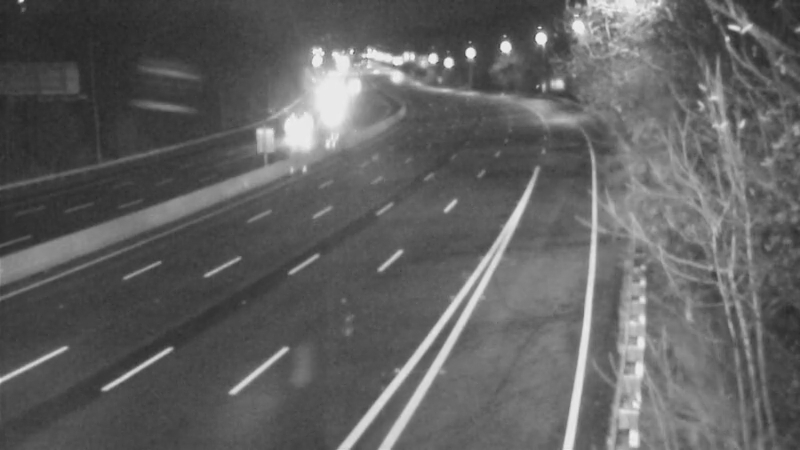vehicle: (366, 53, 416, 103), (271, 110, 321, 160), (308, 88, 358, 138)
